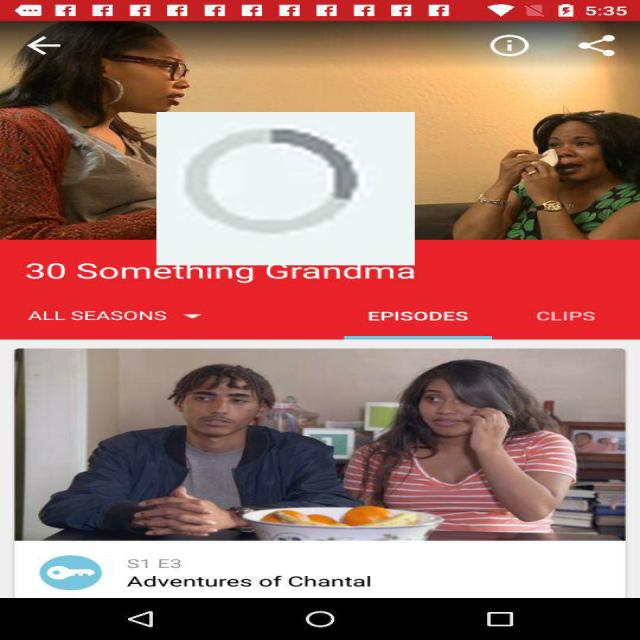misdirection: (156, 112, 415, 265)
